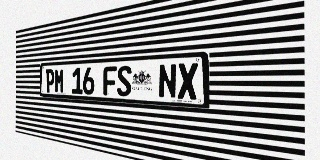1: (72, 68, 83, 94)
6: (83, 67, 94, 95)
F: (103, 66, 117, 96)
M: (55, 68, 64, 93)
N: (158, 63, 177, 99)
P: (46, 69, 54, 93)
S: (117, 65, 131, 97)
X: (177, 63, 198, 100)
